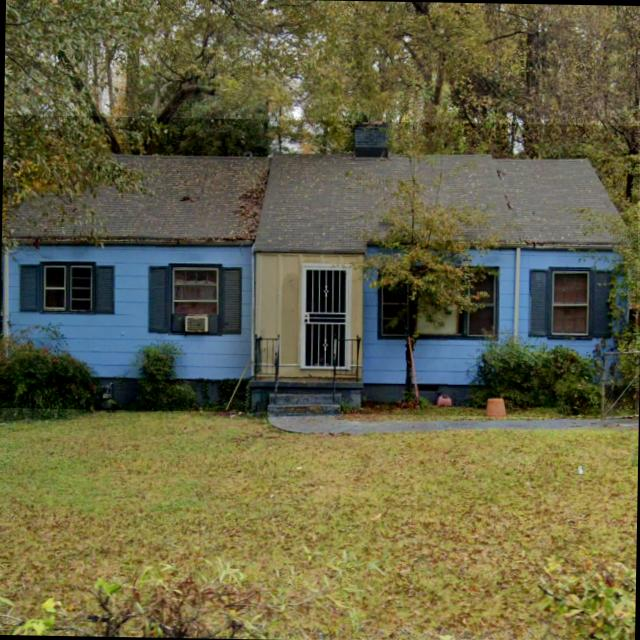House: (0, 114, 639, 418)
